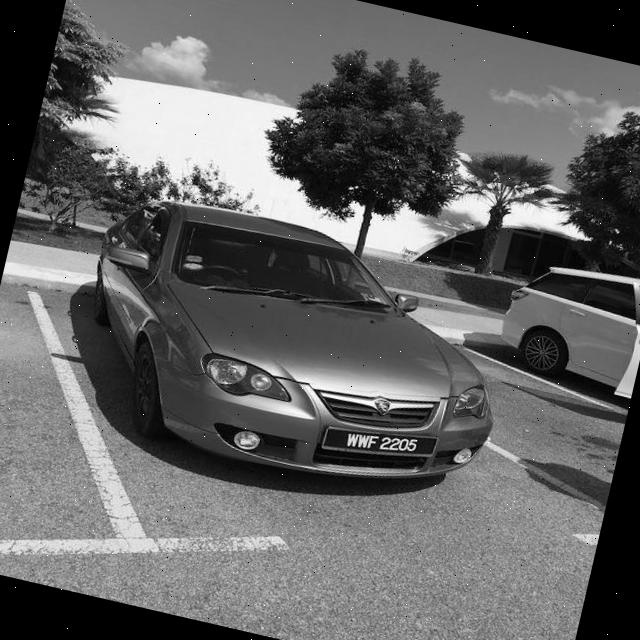License_Plate: (317, 408, 450, 474)
car: (40, 177, 534, 537)
